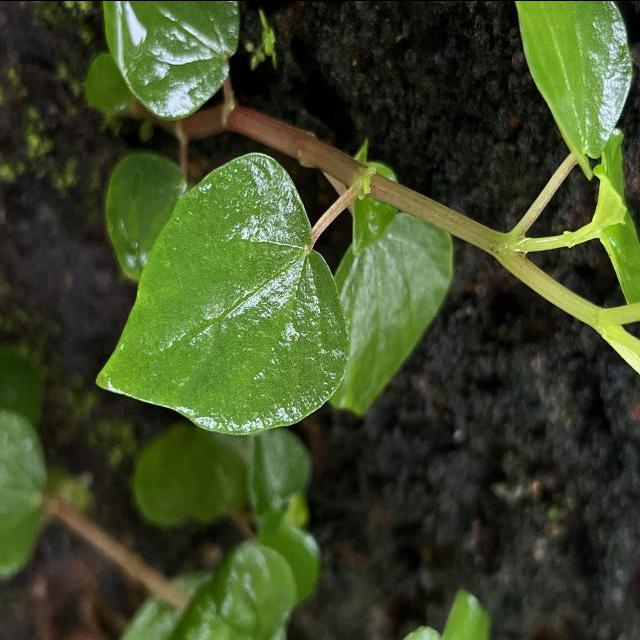Peperomia pellucida: (94, 150, 353, 438)
